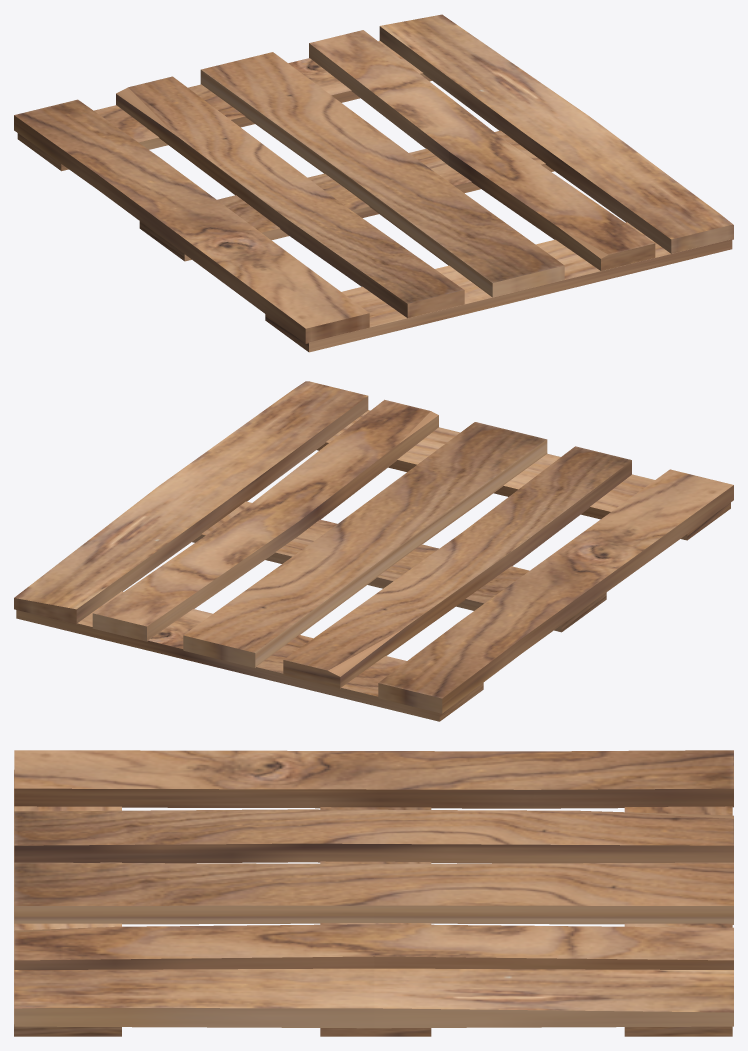
The model's file is kayupantek.fbx.
The picture shows the model from 3 angles, top to bottom: view 1: azimuth 30°, elevation 25°; view 2: azimuth 150°, elevation 25°; view 3: azimuth 270°, elevation 25°; orthographic projection. The views are drawn at different scales.
Visible parts, largest first — view 1: Cube.019_Cube.020; view 2: Cube.019_Cube.020; view 3: Cube.019_Cube.020.
Boxes of the visible parts, bbox=[...] form: Cube.019_Cube.020: bbox=[14, 14, 733, 352]; Cube.019_Cube.020: bbox=[14, 381, 733, 721]; Cube.019_Cube.020: bbox=[14, 750, 733, 1036].
Bounding box in the file's own units: 608 × 33.55 × 715.
1 material, 1 textured.
